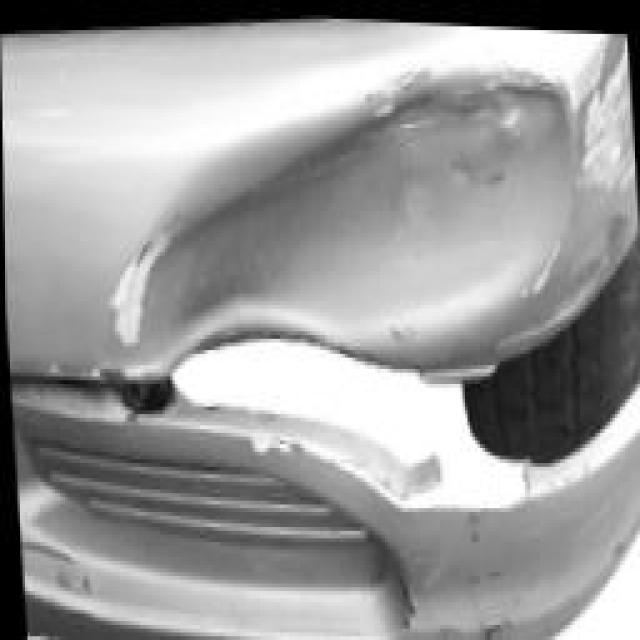Bonnet: (82, 19, 605, 369)
Bumper: (8, 320, 640, 640)
